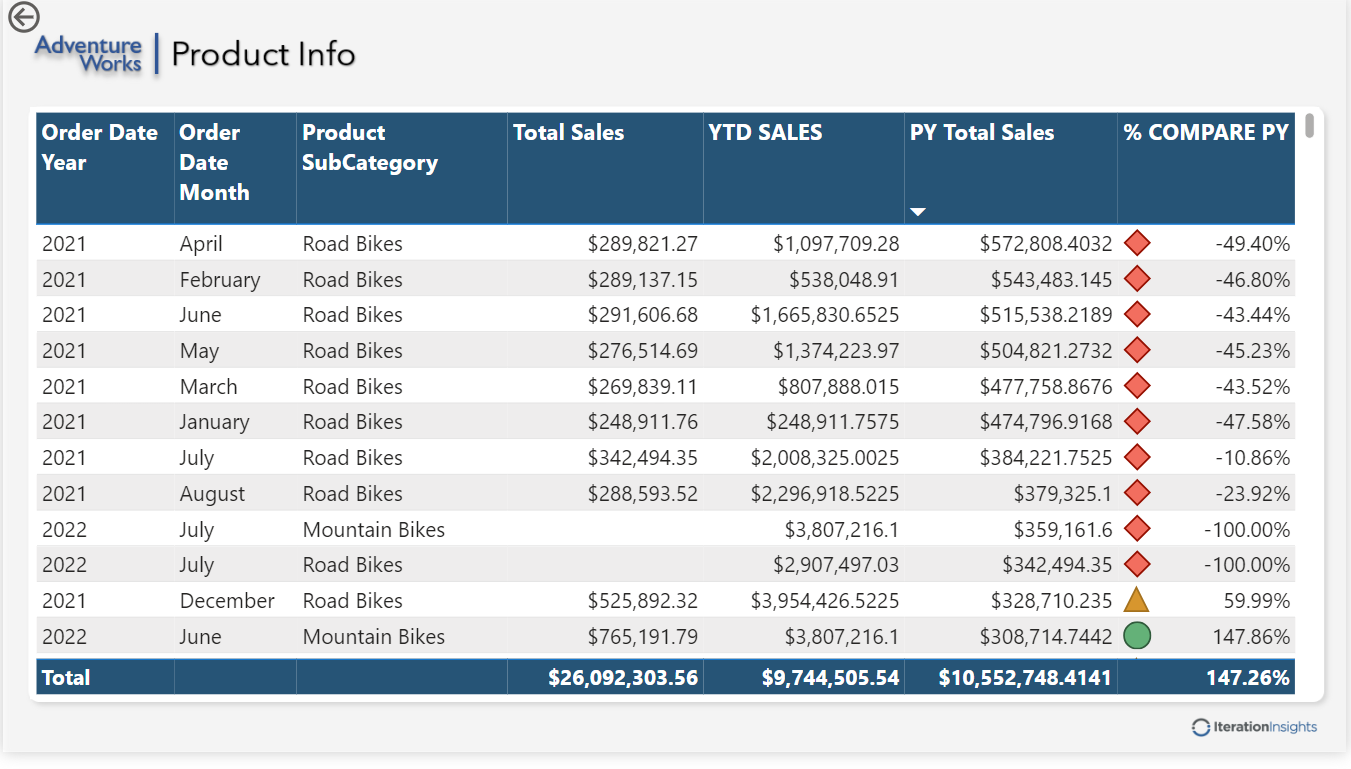

Layout of this report page (visuals, bound fields, positions):
{"tool":"powerbi","page":{"name":"Product Sale Details","canvas":[1280,720],"ordinal":2},"visuals":[{"type":"tableEx","fields":{"Values":["ORDER DATE.Order Date Year","ORDER DATE.Order Date Month","Product.Product Hierarchy.Product SubCategory","Sales.Measure","Sales.YTD SALES","Sales.PY Total Sales","Sales.% COMPARE PY"]},"box":[26,106,1228,564],"z":0},{"type":"actionButton","box":[0,0,100,40],"z":1000}]}

Visuals, with their boxes in screenshot pixels (x1, y1, x2, y2), scaled from the page's 1280x720 canvas onto the 1351x769 screenshot:
tableEx - ORDER DATE.Order Date Year x ORDER DATE.Order Date Month: region(27, 113, 1324, 716)
actionButton: region(0, 0, 106, 43)
